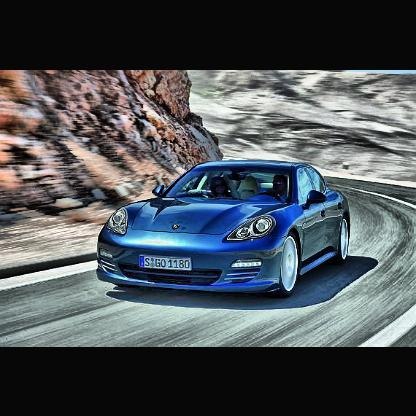Porsche Panamera Sedan 2012: (97, 159, 353, 300)
